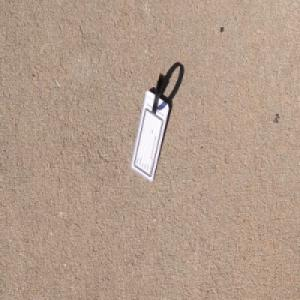LuggageTag: (130, 69, 170, 183)
